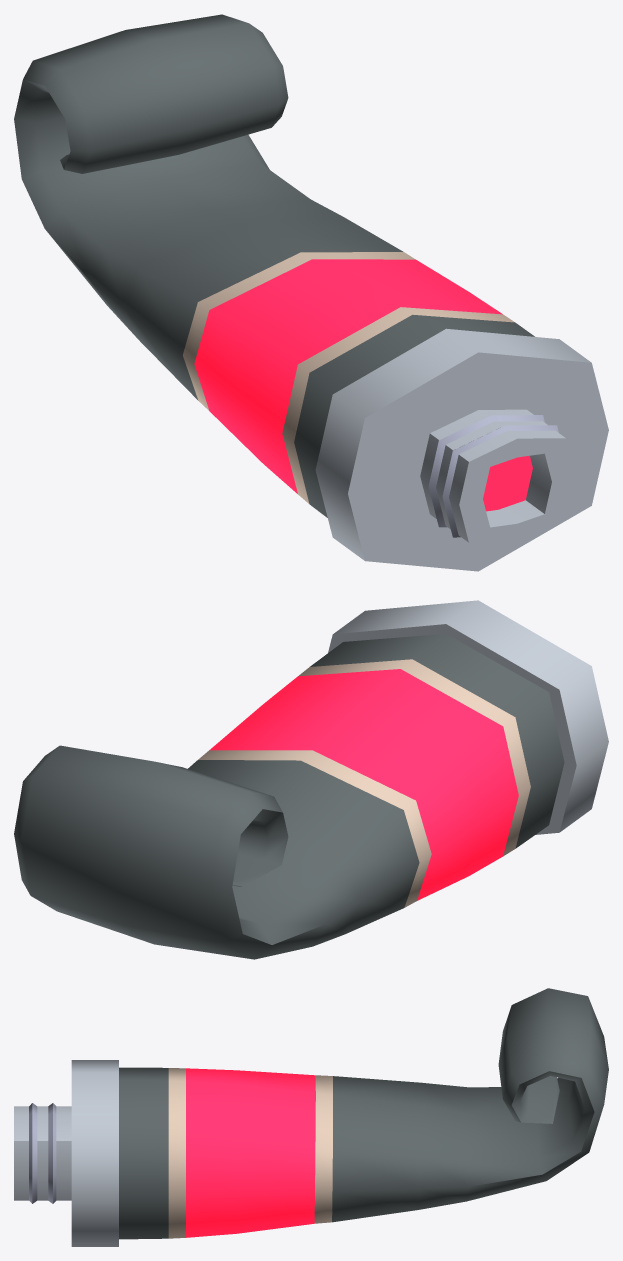
The model's file is Color_Tube.fbx.
3 renders of one model, top to bottom at view 1: azimuth 30°, elevation 25°; view 2: azimuth 150°, elevation 25°; view 3: azimuth 270°, elevation 25°, orthographic. The views are drawn at different scales.
Parts seen in each view (by area): view 1: Color_Tube; view 2: Color_Tube; view 3: Color_Tube.
Boxes of the visible parts, left/top/right/bottom form: Color_Tube: left=14, top=14, right=608, bottom=571; Color_Tube: left=14, top=600, right=608, bottom=959; Color_Tube: left=14, top=988, right=608, bottom=1246.
Size of the model in its own units: 178 by 192 by 478.
